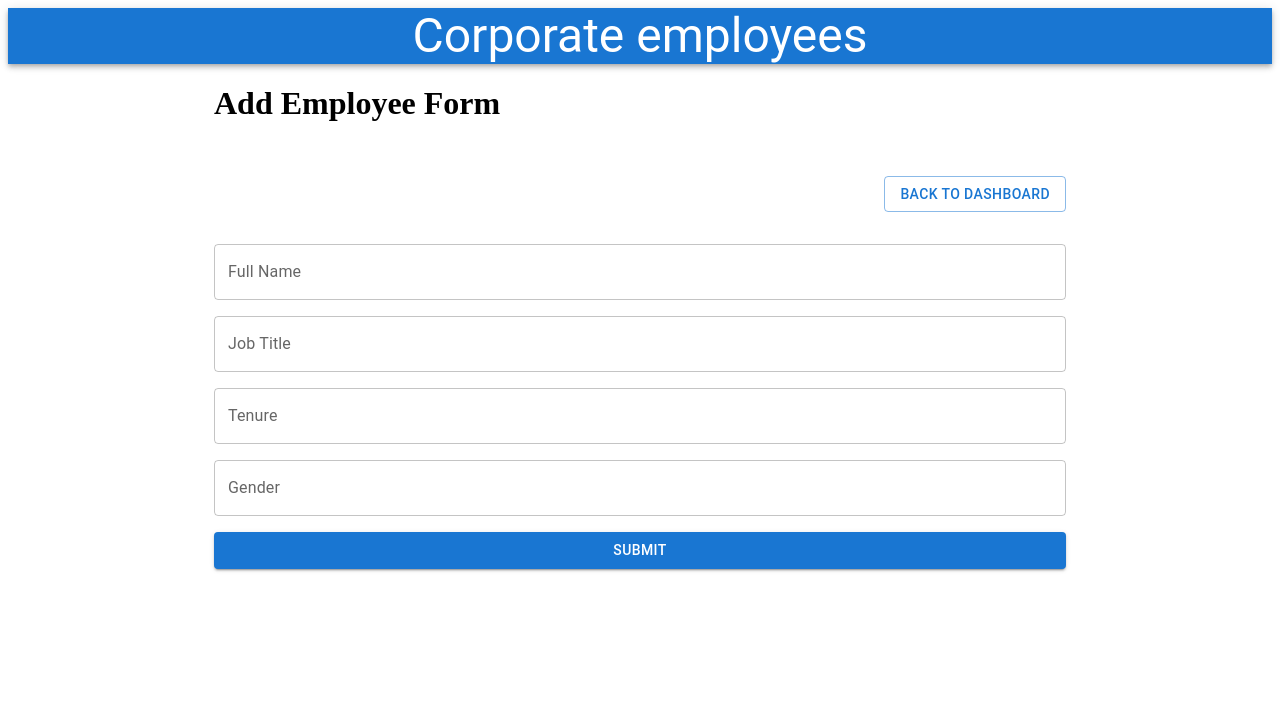
Test case: Validate inputs in Employee Form › should not submit if a required value is missing
Type "Jane Doe" into the element with test id "name-input" at (640, 280), box [214,244,1066,316]
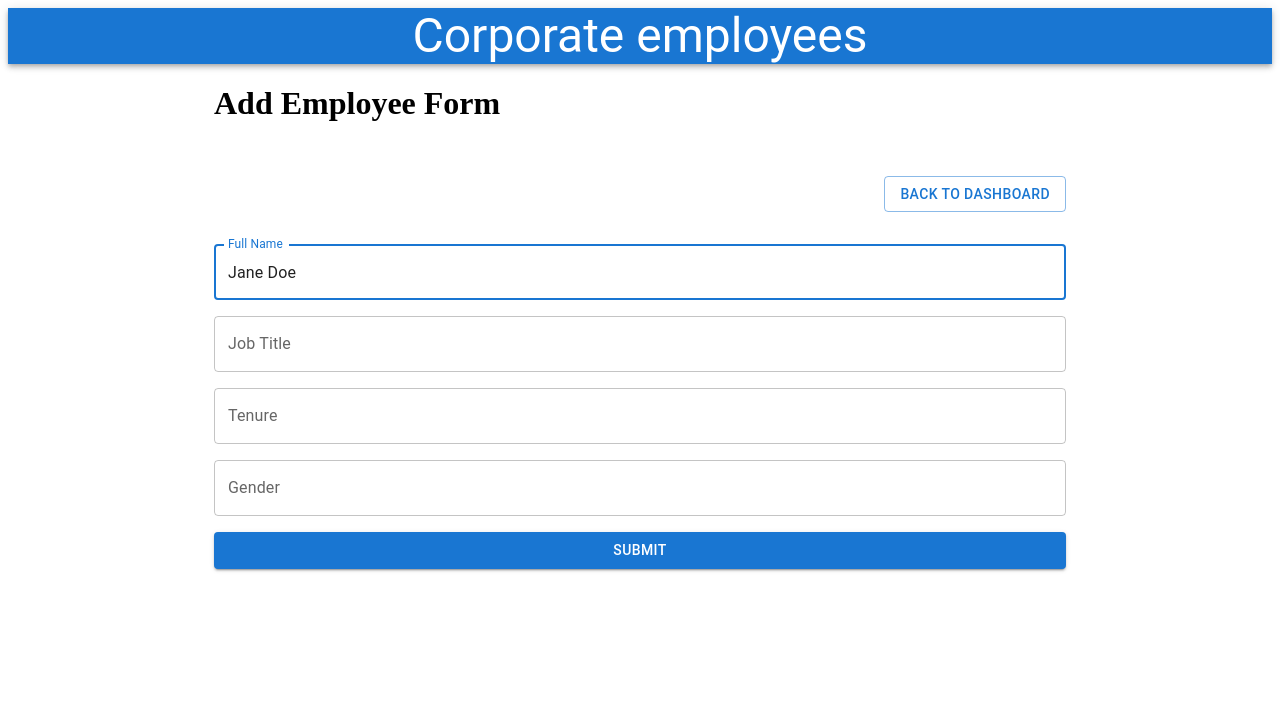
Type "Engineer" into the element with test id "jobTitle-input" at (640, 352), box [214,316,1066,388]
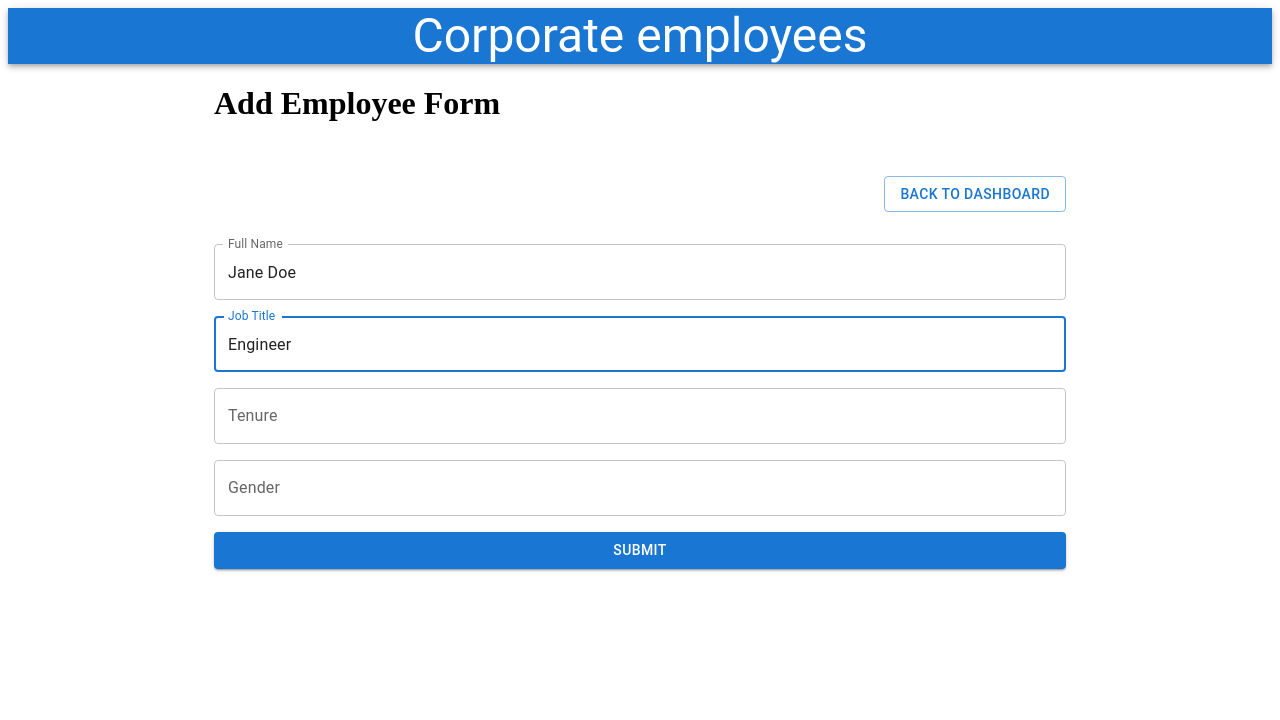
Type "Female" into the element with test id "gender-input" at (640, 496), box [214,460,1066,532]
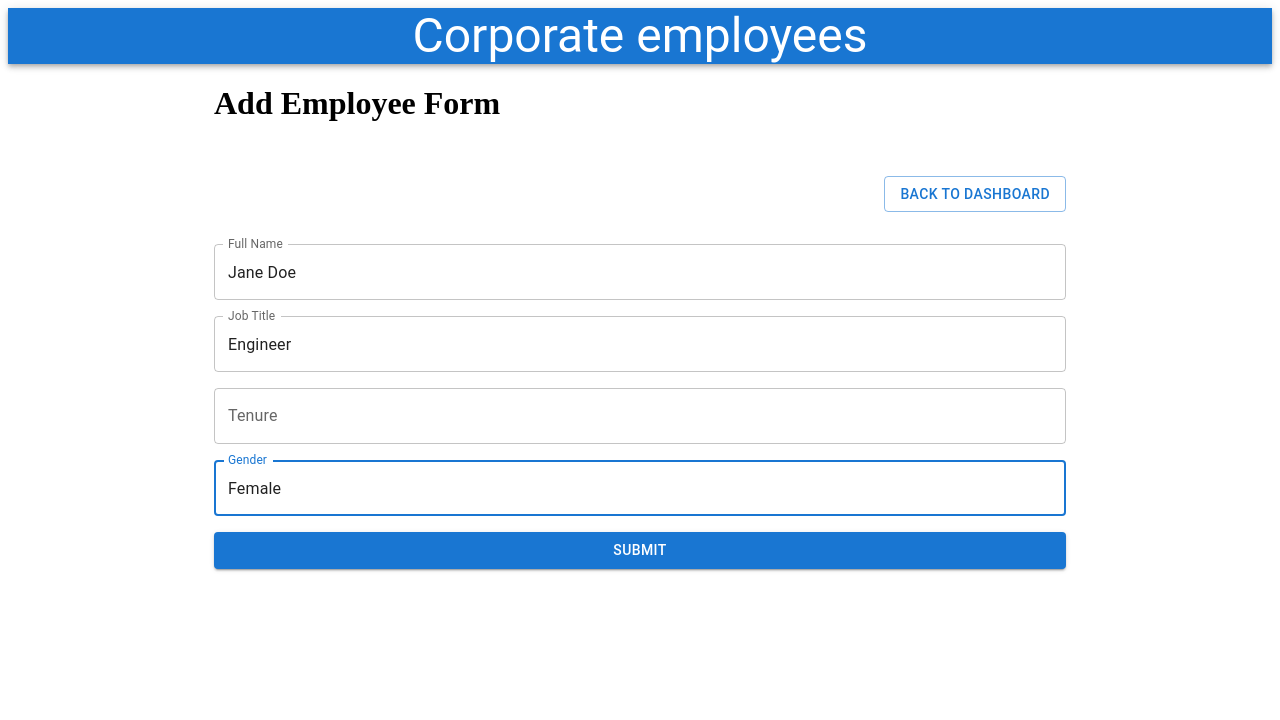
Click the button with test id "add-employee-form-submit-button" at (640, 551), box [214,532,1066,569]
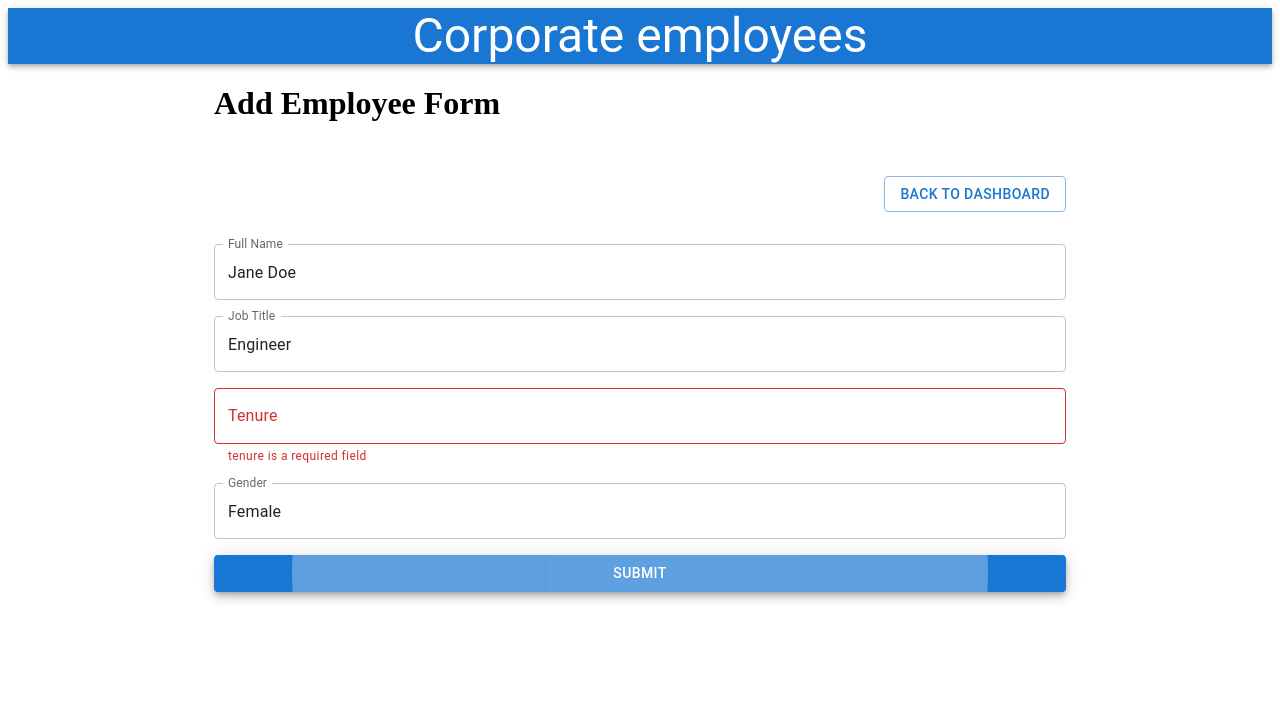
expect the text "tenure is a required field" is shown: met, box [228,449,367,463]
